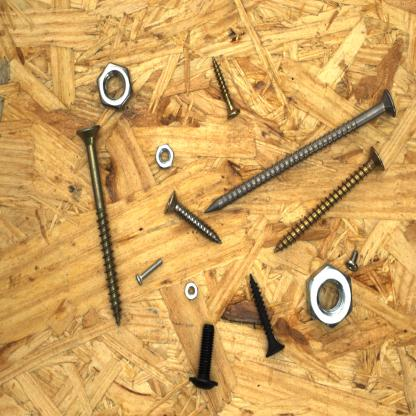screw: (202, 87, 401, 216), (270, 144, 388, 257), (75, 122, 123, 329), (162, 188, 225, 246), (246, 270, 286, 360), (208, 51, 244, 124), (187, 320, 220, 391), (134, 255, 165, 286), (343, 250, 362, 274)
